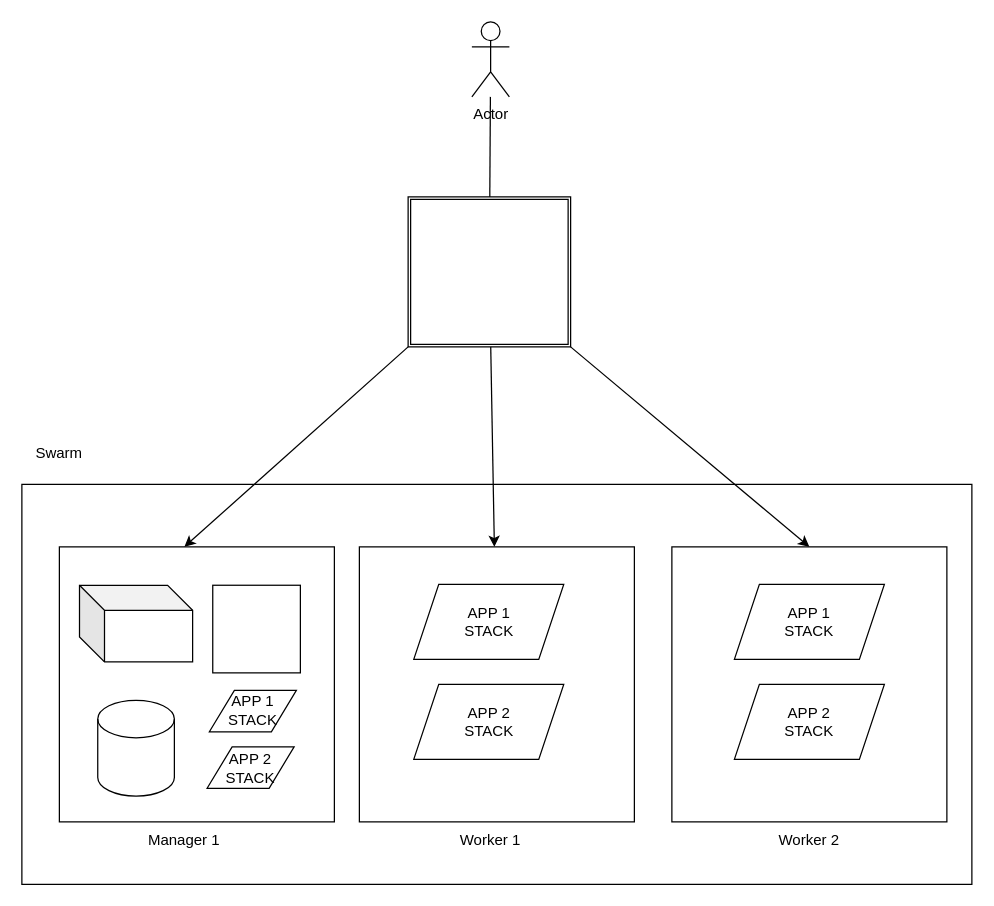
This 994x906 diagram has some shape labels left out. The box of each missing label's shape, as (x1, y1, x2, y2) in pixels:
Docker Registry: (78, 584, 193, 662)
Load Balancer Reverse Proxy: (407, 196, 571, 347)
QoTS DB: (96, 699, 174, 796)
QoTS UI: (212, 584, 300, 673)
